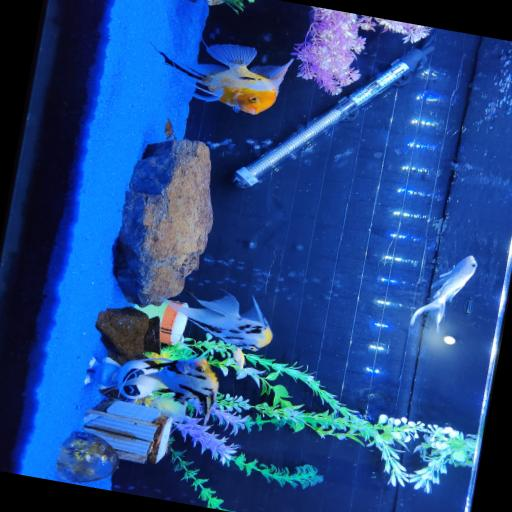Fish: (159, 44, 292, 113), (163, 293, 271, 367), (104, 357, 217, 422), (410, 255, 477, 330)
